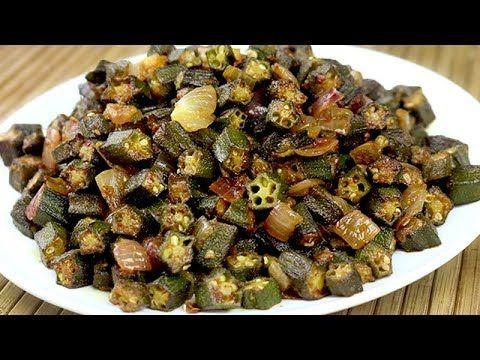bhindi: (77, 46, 446, 298)
